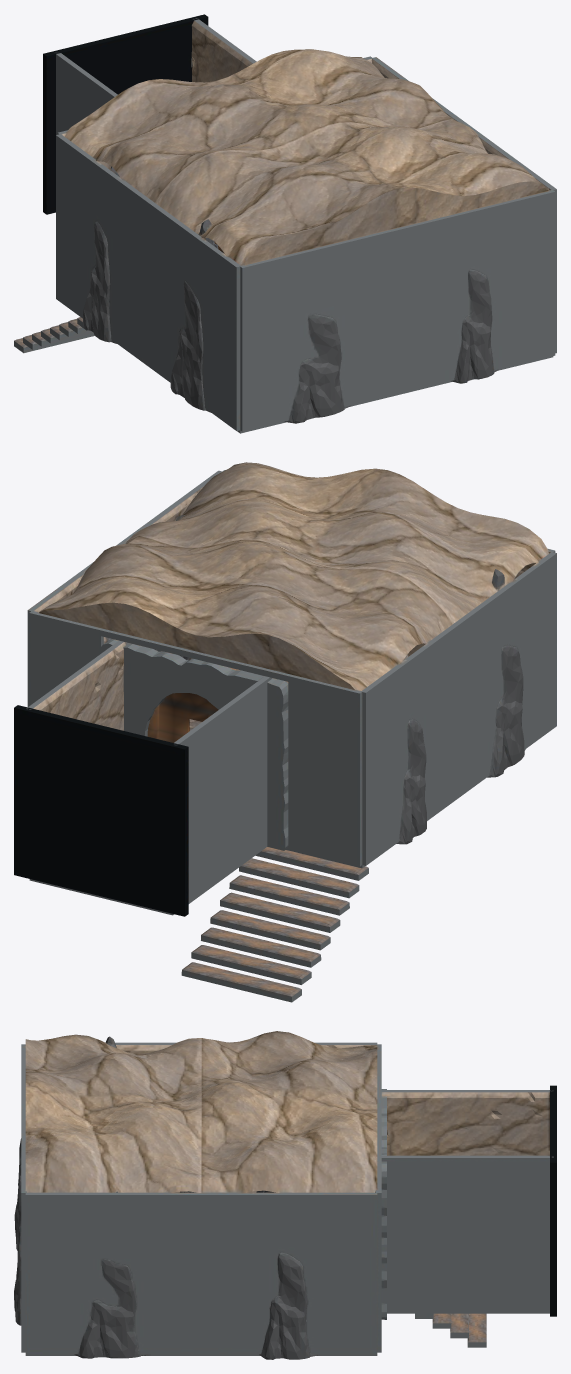
Rendered from room.glb.
3 renders of one model, top to bottom at view 1: azimuth 30°, elevation 25°; view 2: azimuth 150°, elevation 25°; view 3: azimuth 270°, elevation 25°, orthographic. The views are drawn at different scales.
Parts seen in each view (by area): view 1: TINY-ROOM; view 2: TINY-ROOM; view 3: TINY-ROOM.
Part boxes in pixels (x1,y1,x2,y2): TINY-ROOM: [14, 14, 556, 433]; TINY-ROOM: [14, 462, 556, 1002]; TINY-ROOM: [14, 1031, 556, 1359].
Size of the model in its own units: 6.43 by 5.4 by 9.26.
1 material, 1 textured.
